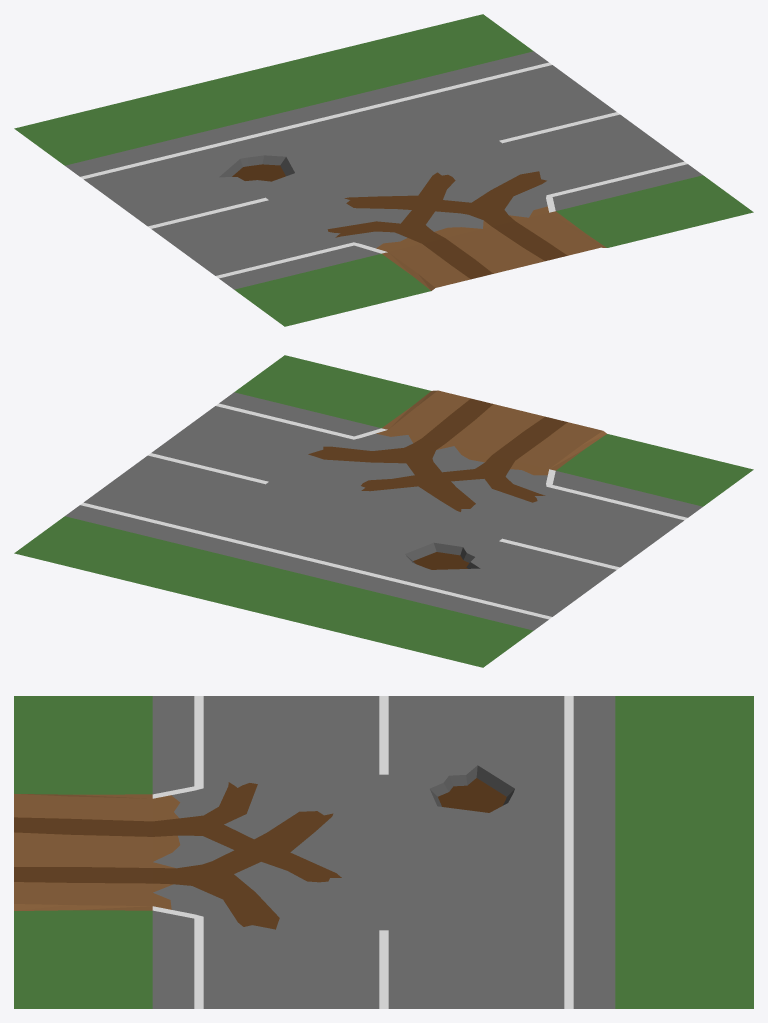
Rendered from Road_03.fbx.
3 renders of one model, top to bottom at view 1: azimuth 30°, elevation 25°; view 2: azimuth 150°, elevation 25°; view 3: azimuth 270°, elevation 25°, orthographic. The views are drawn at different scales.
Parts seen in each view (by area): view 1: Road_03; view 2: Road_03; view 3: Road_03.
Boxes of the visible parts, x1,y1,x2,y2 form: Road_03: (14,14,753,326); Road_03: (14,355,753,667); Road_03: (14,696,753,1008).
Bounding box in the file's own units: 1200 × 19.92 × 1200.
